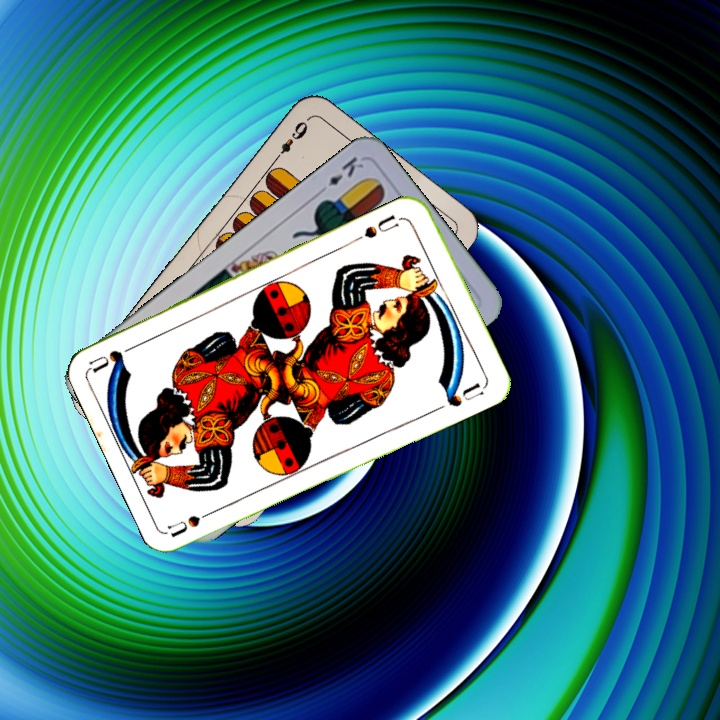E9: (269, 115, 312, 165)
EK: (313, 152, 367, 198)
SU: (166, 503, 223, 539), (360, 211, 407, 241)
